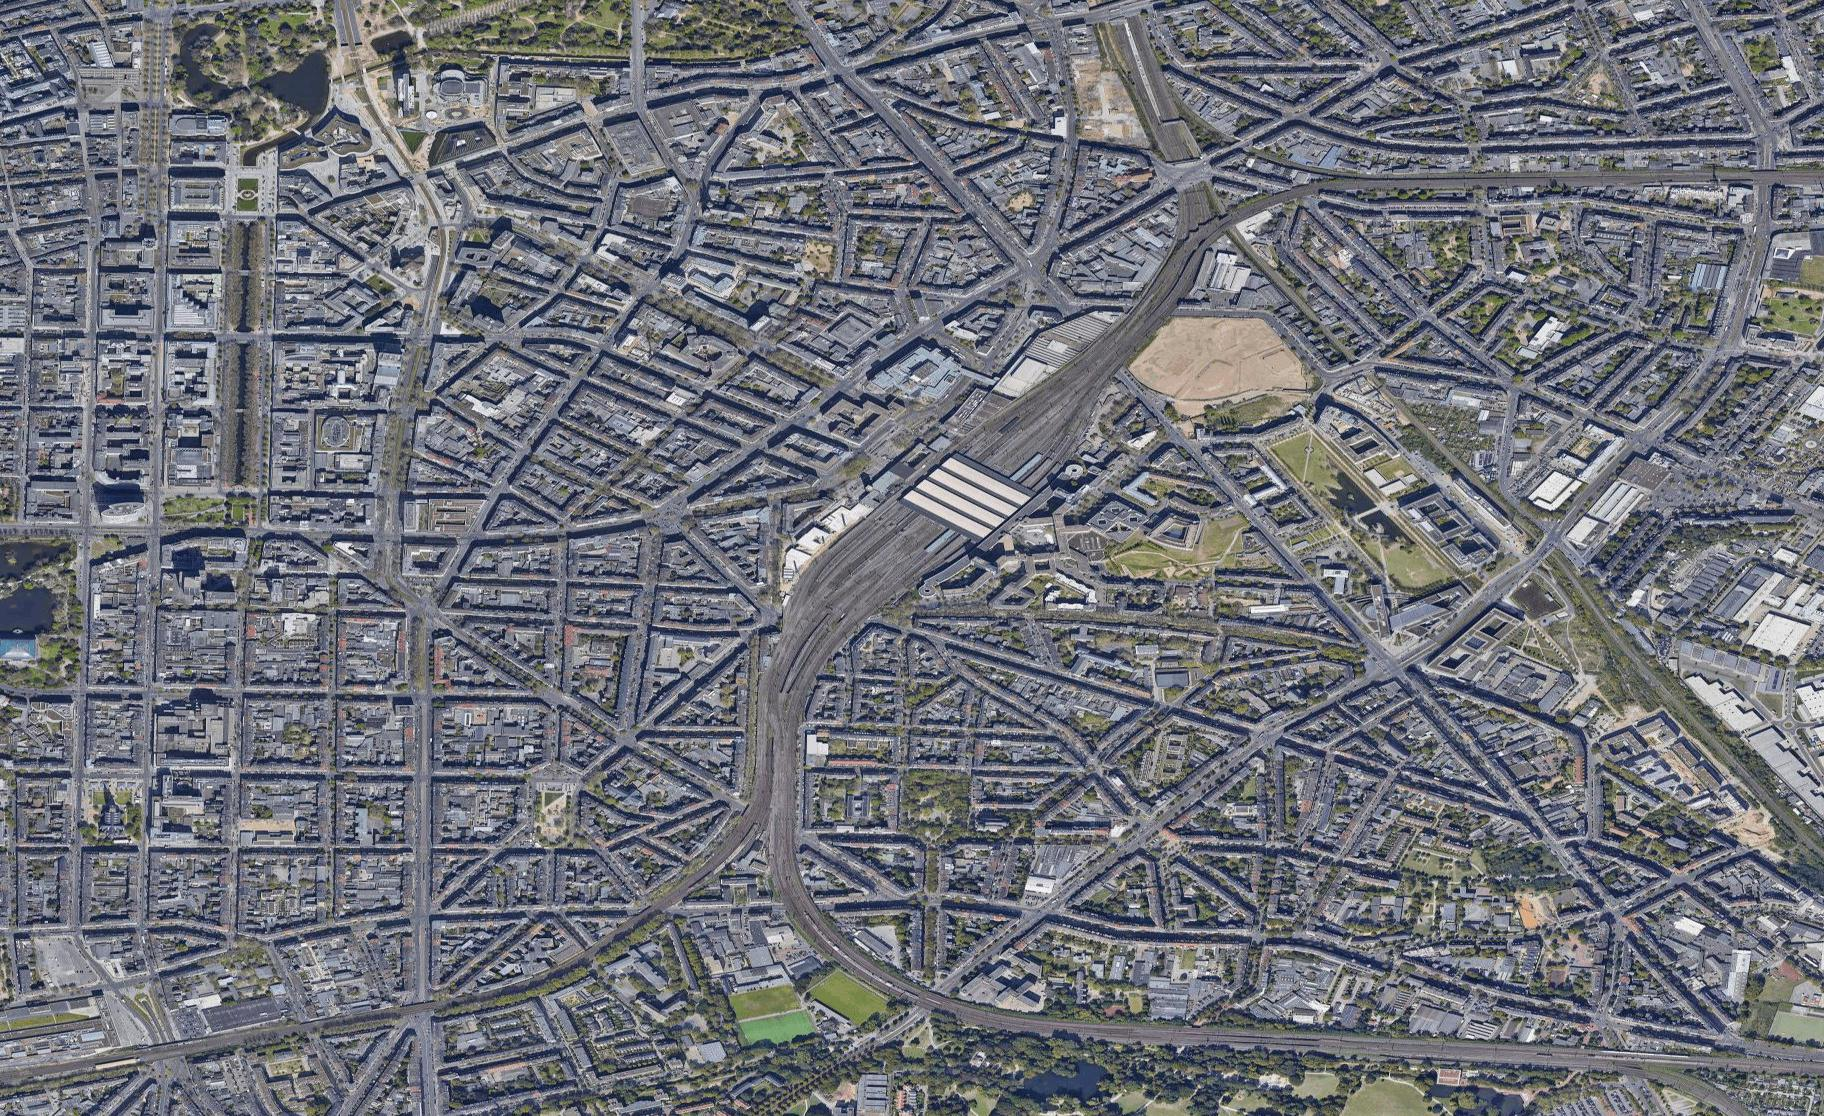train_station: (883, 428, 1040, 568)
